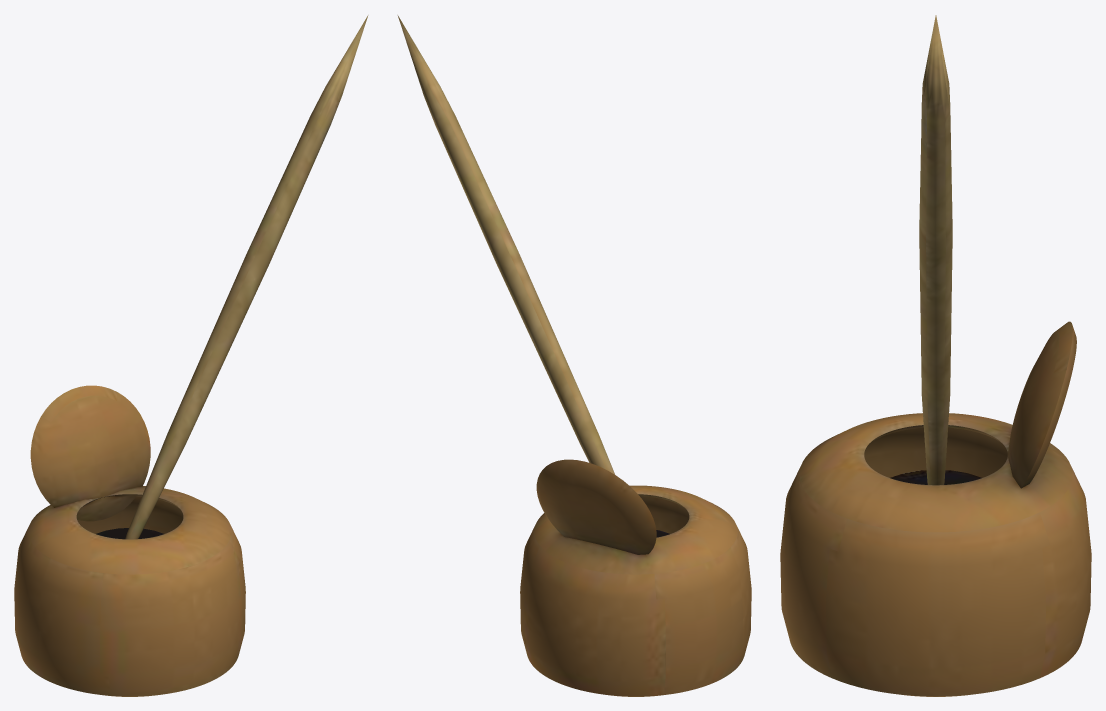
The model's file is ink.glb.
3 views of the same model, side by side, from view 1: azimuth 30°, elevation 25°; view 2: azimuth 150°, elevation 25°; view 3: azimuth 270°, elevation 25° (orthographic). The views are drawn at different scales.
Parts seen in each view (by area): view 1: ink; view 2: ink; view 3: ink.
Part boxes in pixels (x1,y1,x2,y2): ink: [14, 15, 368, 696]; ink: [397, 15, 751, 696]; ink: [780, 15, 1091, 696].
Bounding box in the file's own units: 0.09 × 0.1497 × 0.0533.
1 material, 1 textured.
